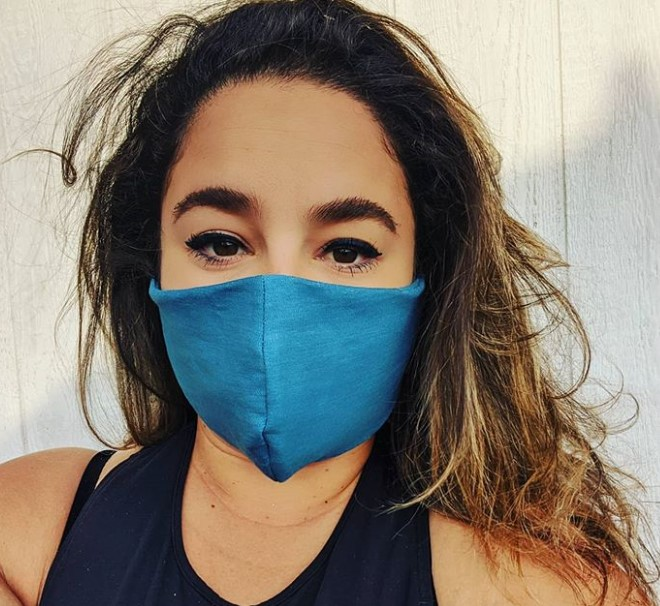face_with_mask: (137, 64, 443, 483)
